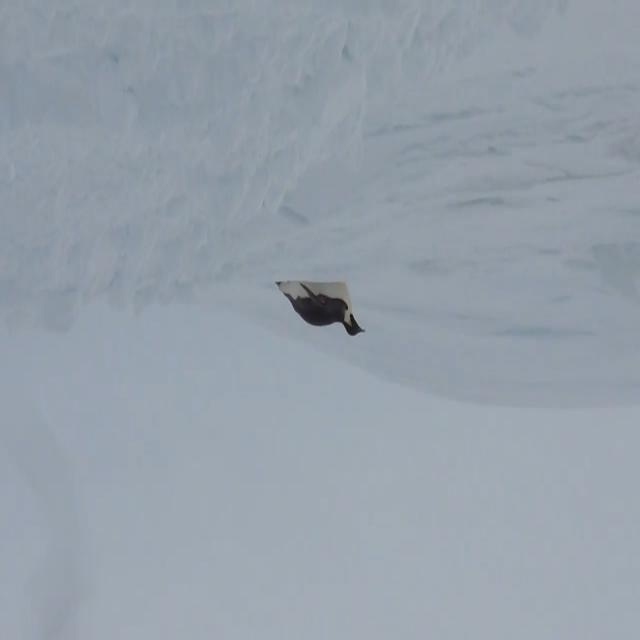penguin: (274, 279, 364, 336)
